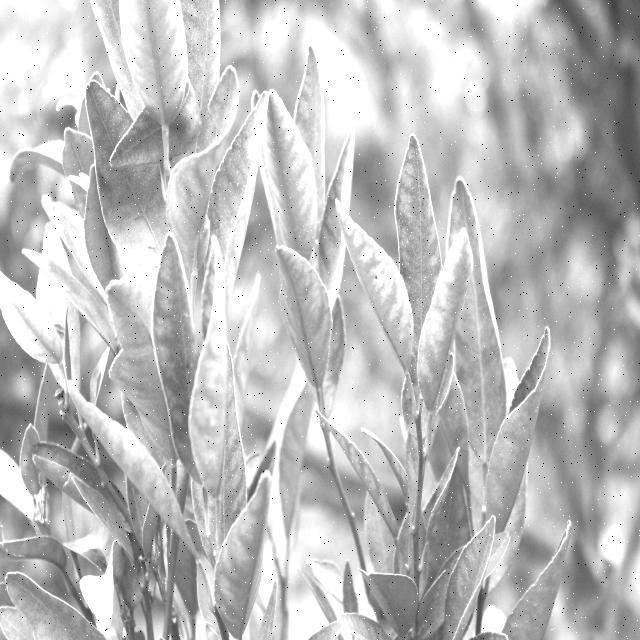greening: (482, 330, 548, 518), (408, 230, 473, 414), (214, 448, 280, 622), (167, 73, 241, 224), (191, 257, 231, 488), (264, 91, 320, 255), (352, 209, 412, 359), (151, 232, 189, 432)
